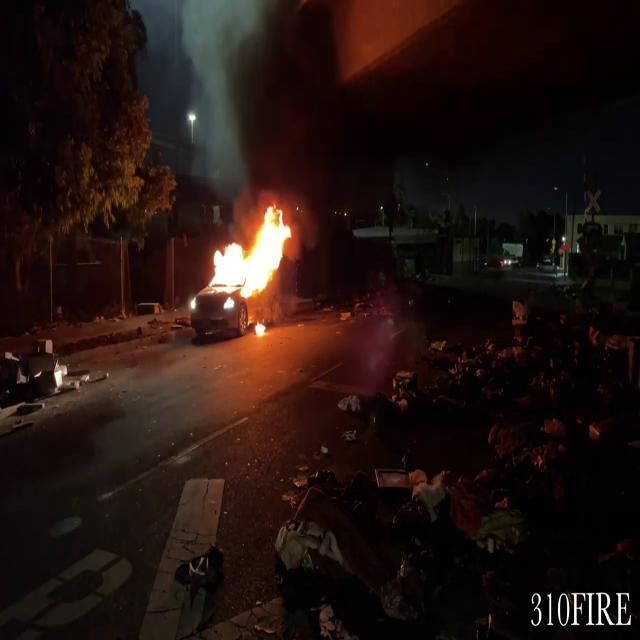Fire: (198, 202, 298, 312)
Smoke: (210, 0, 396, 214)
